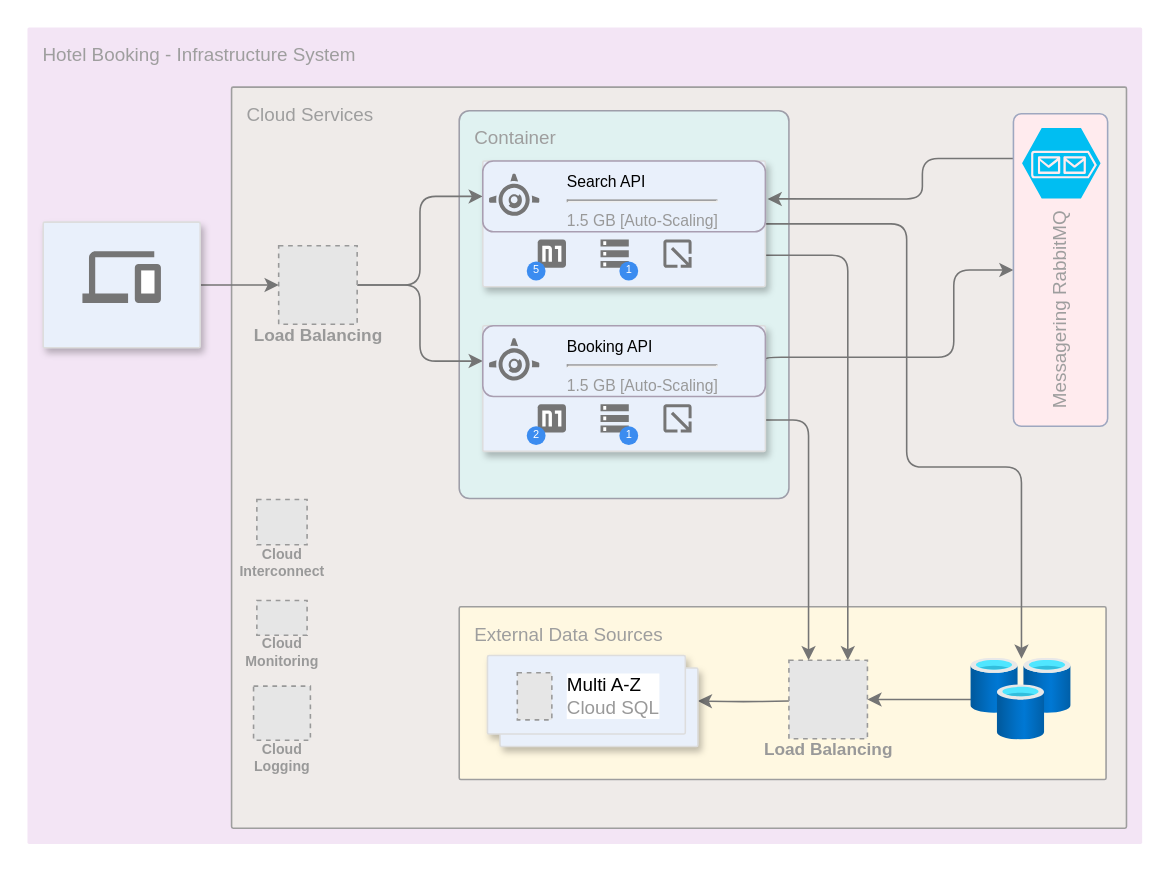
The diagram is 1168 pixels wide and 870 high, and some of its shapes have lost their labels. Grey dashed boxes stand in for pictures. Here are the shapes that lost their labels. From the top down, the centre of each, then its label:
At point 122,286: "Customer App".
At point 1020,698: "Cache".
